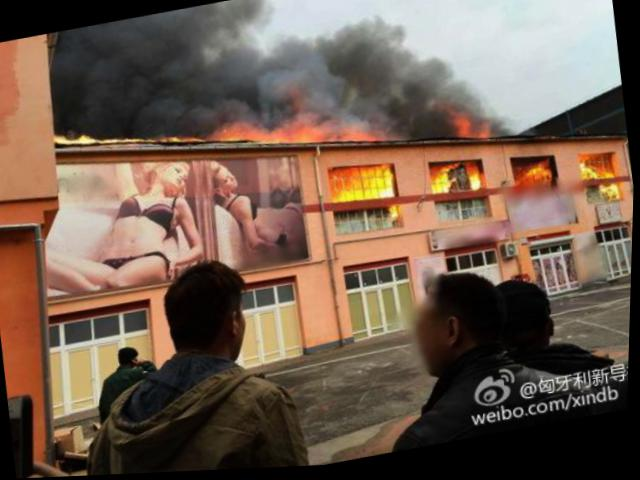fire: (326, 160, 396, 209), (252, 122, 323, 152), (206, 122, 253, 149), (514, 162, 553, 193), (578, 154, 615, 183), (426, 162, 453, 197), (331, 128, 370, 147), (462, 162, 485, 192), (449, 117, 472, 139), (599, 185, 621, 207), (387, 204, 402, 223)
